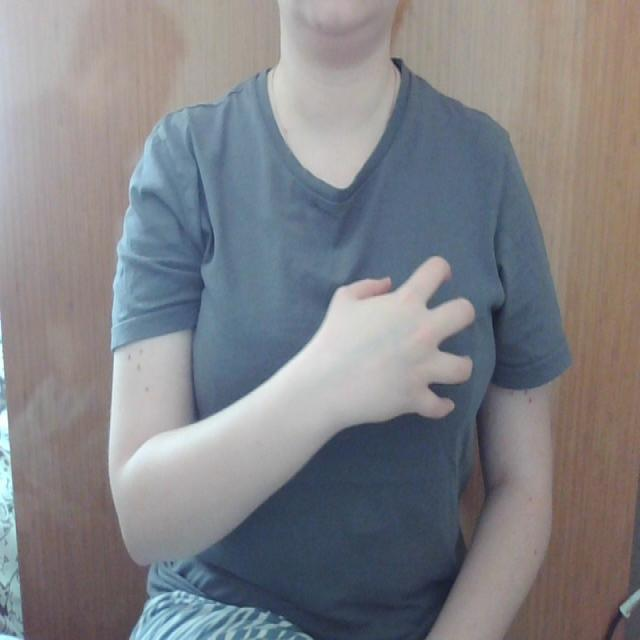Anne: (172, 238, 529, 450)
